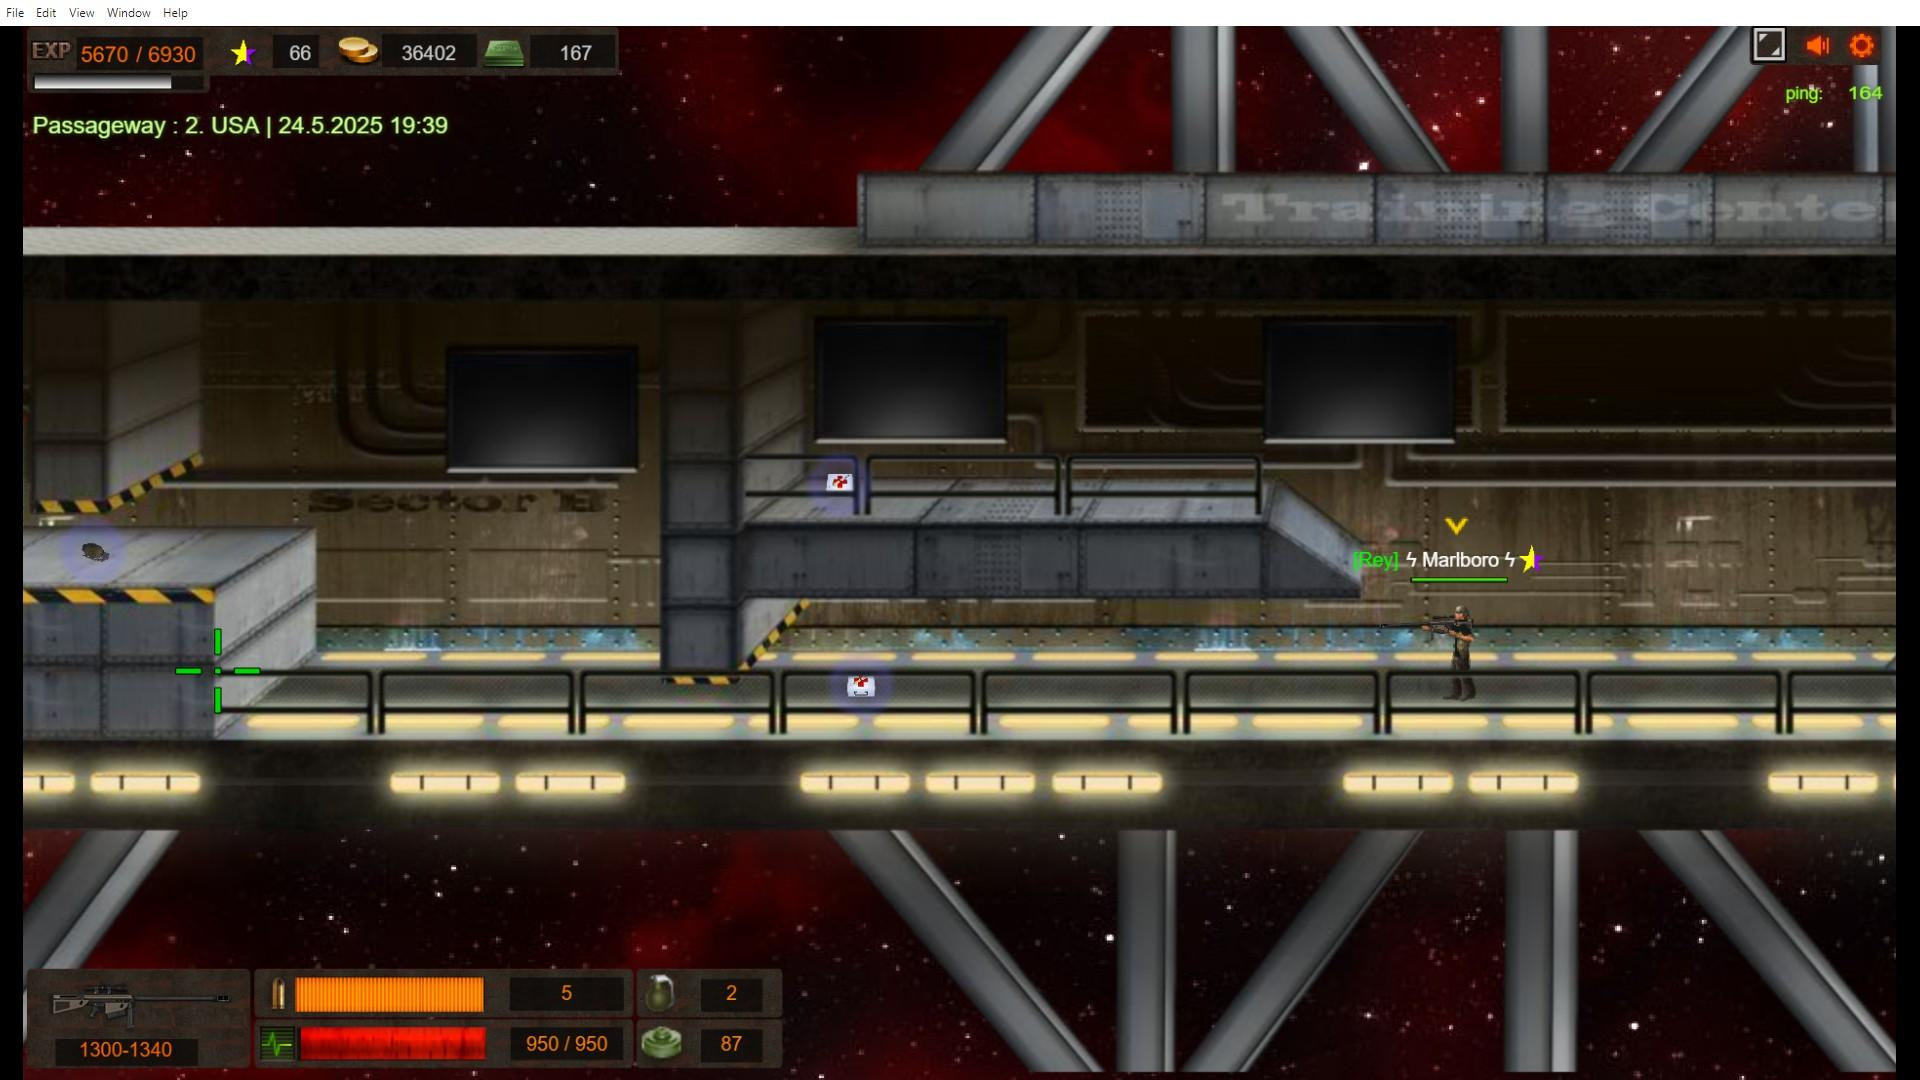enemy: (1449, 603, 1474, 704)
